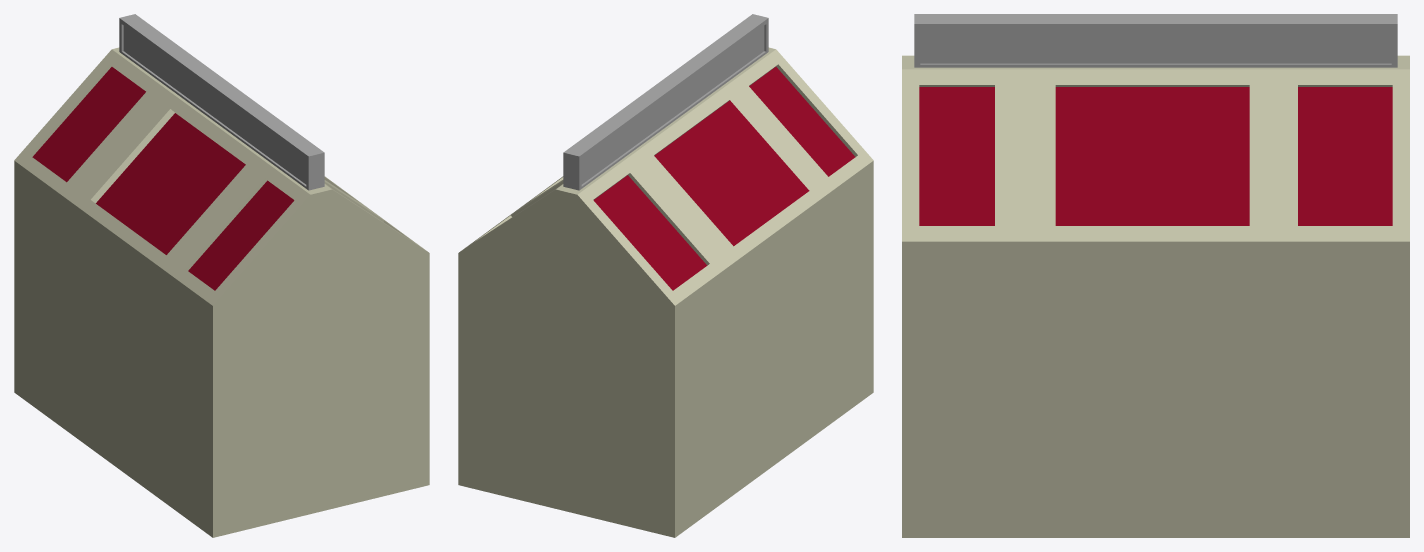
The model's file is Bin.fbx.
3 views of the same model, side by side, from view 1: azimuth 30°, elevation 25°; view 2: azimuth 150°, elevation 25°; view 3: azimuth 270°, elevation 25° (orthographic). The views are drawn at different scales.
Parts seen in each view (by area): view 1: Bin; view 2: Bin; view 3: Bin.
Boxes of the visible parts, left/top/right/bottom form: Bin: left=14, top=14, right=429, bottom=537; Bin: left=458, top=14, right=873, bottom=537; Bin: left=902, top=14, right=1409, bottom=537.
Bounding box in the file's own units: 81.69 × 127 × 130.
